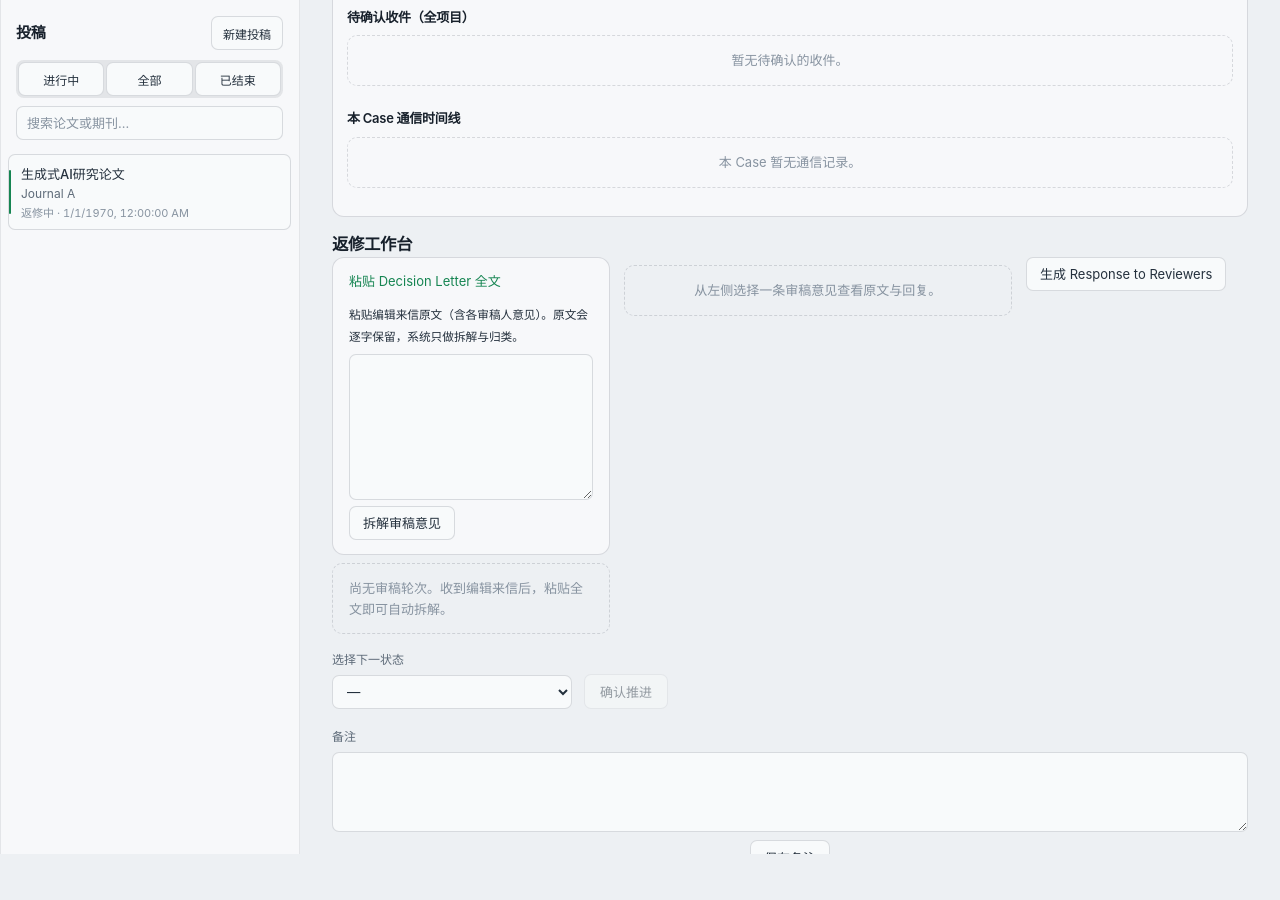
Test: SubmissionsPage 返修工作台与最终提交（P3/P4） › 拆解 Decision Letter 后刷新轮次并显示识别结果
(page scrolled)
Type "Dear Author, major revision... Reviewer #1 ..." into the text box named "粘贴 Decision Letter 全文". click: {"x": 471, "y": 426}
box: 349,354 -> 592,500
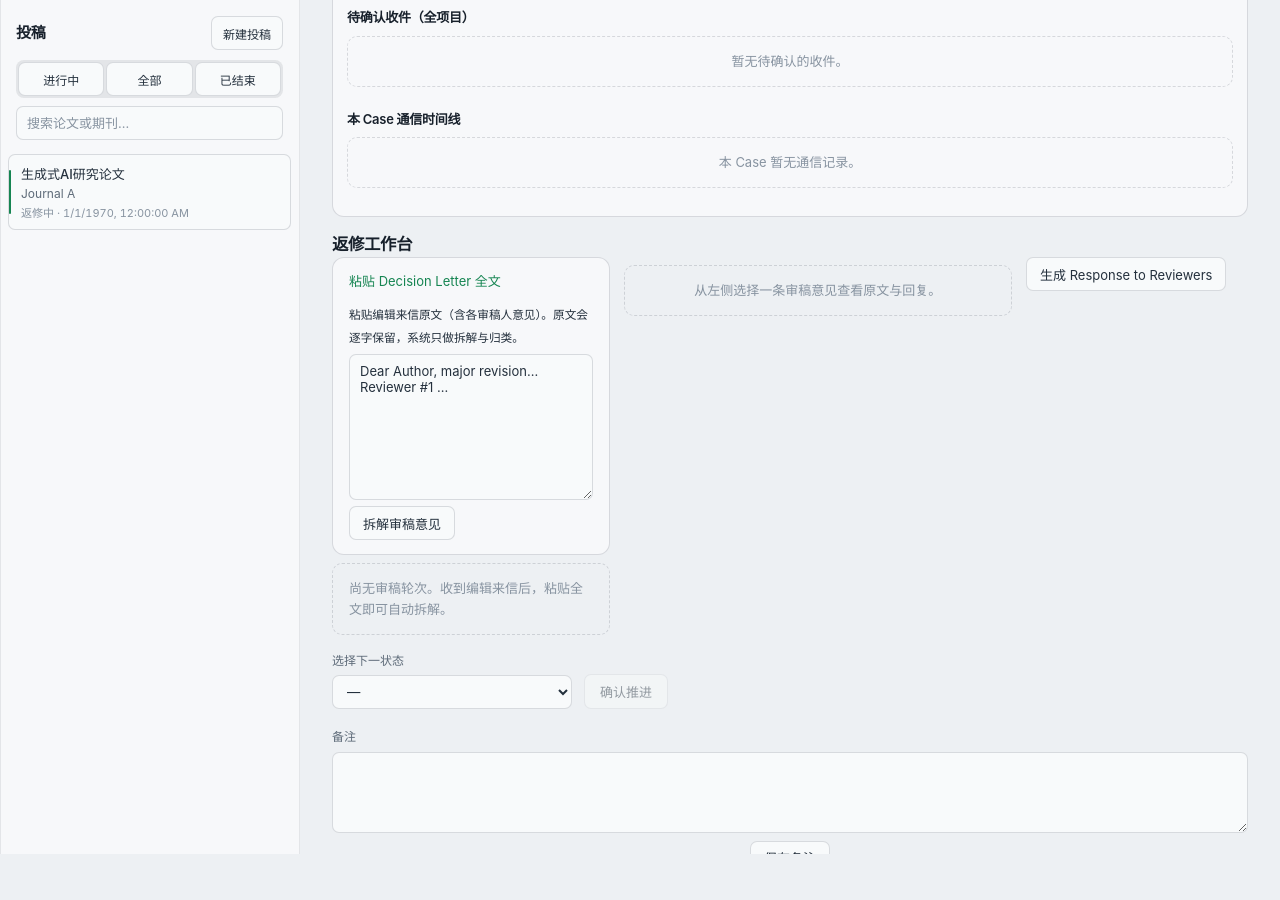
Click the button "拆解审稿意见". click: {"x": 402, "y": 523}
box: 349,506 -> 455,540
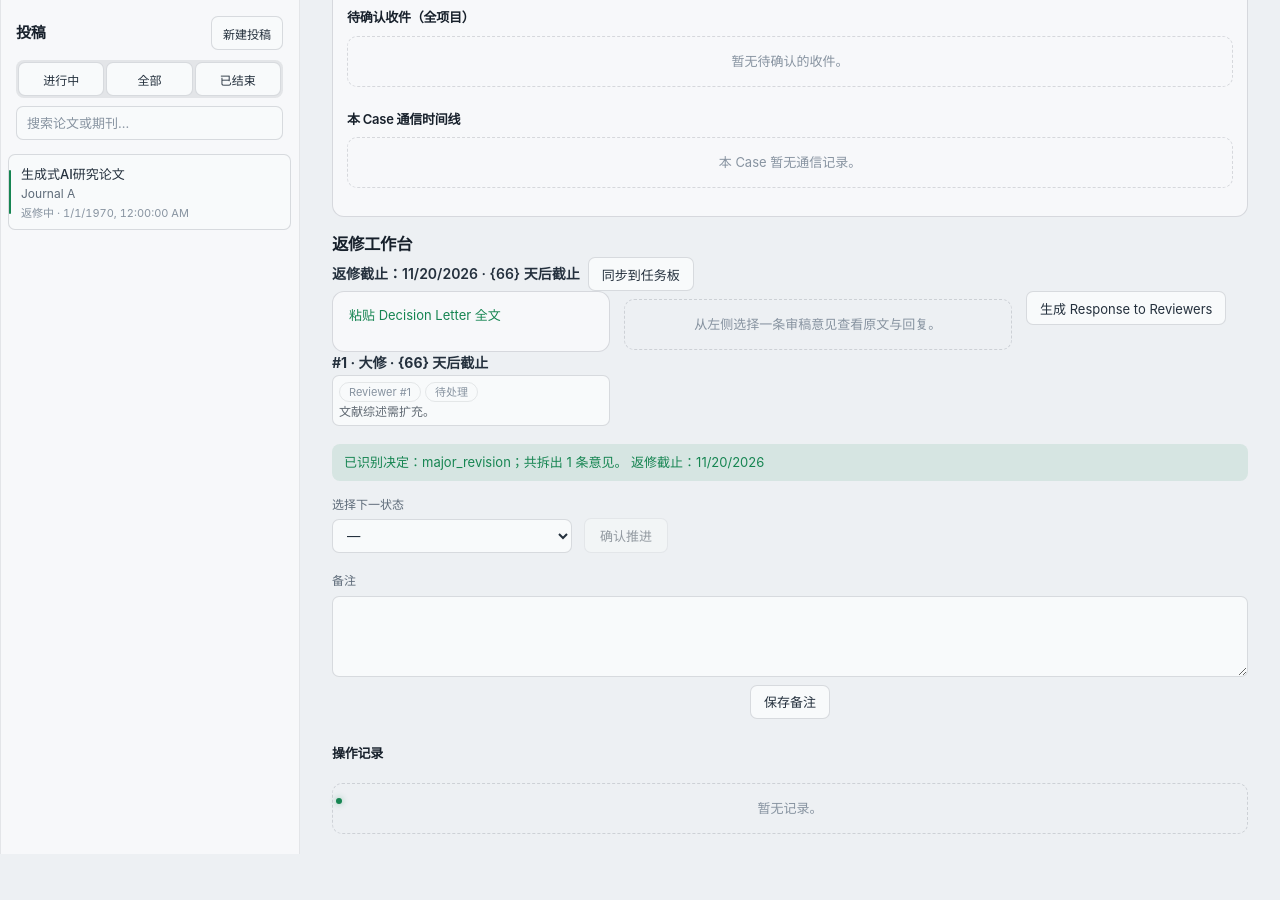
Expected: the text "已识别决定：major_revision；共拆出 1 条意见。 返修截止：11/20/2026" is shown, 332,444 -> 1248,481
